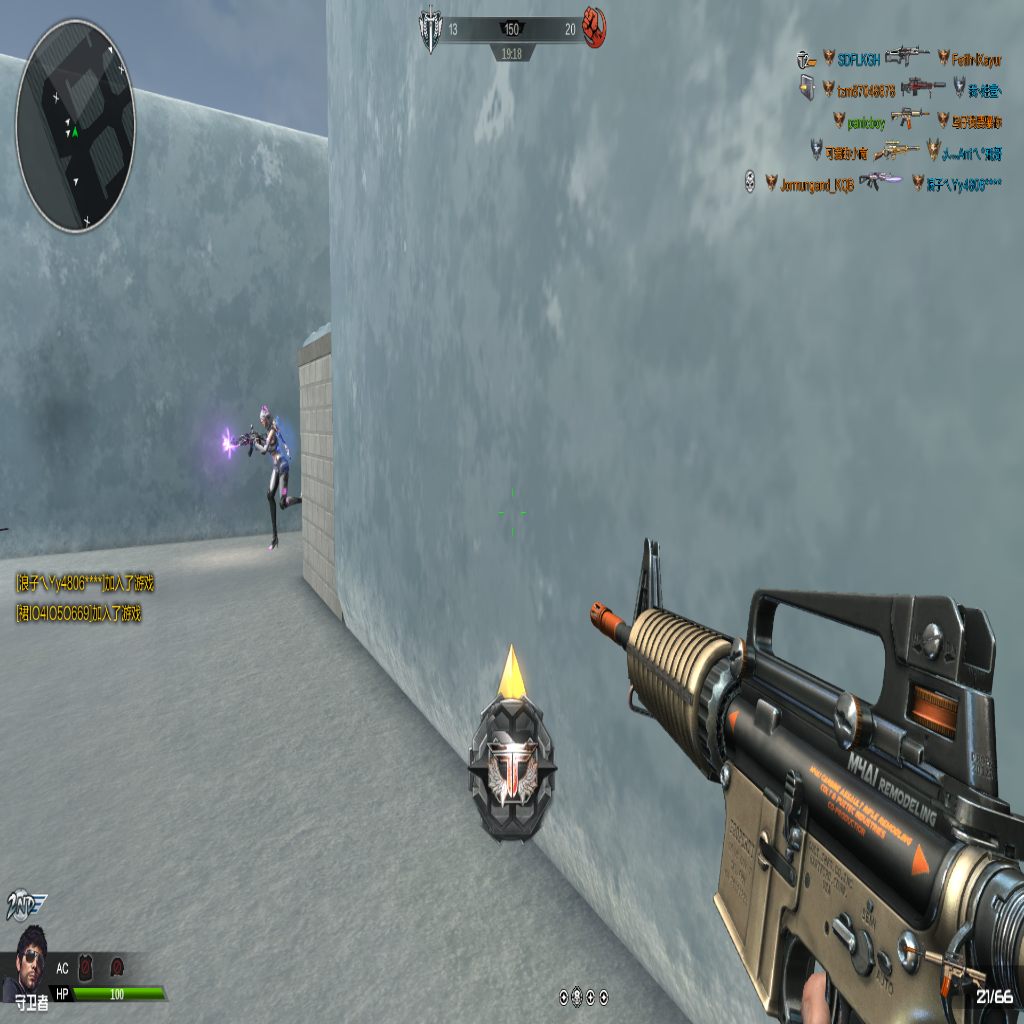tt: (254, 404, 294, 542)
